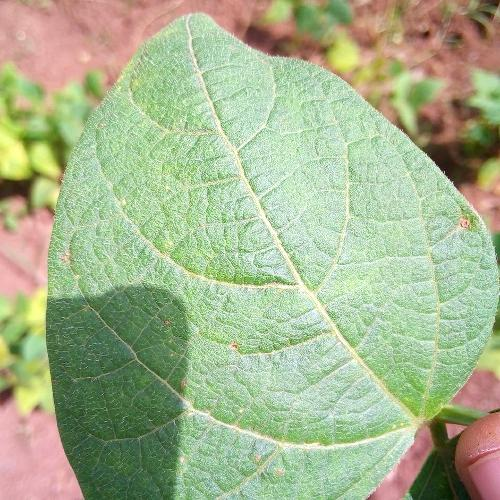sehat: (134, 131, 341, 442)
